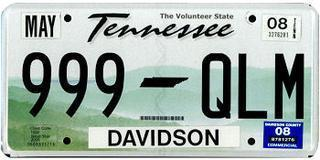placa de veiculo: (5, 2, 319, 157)
